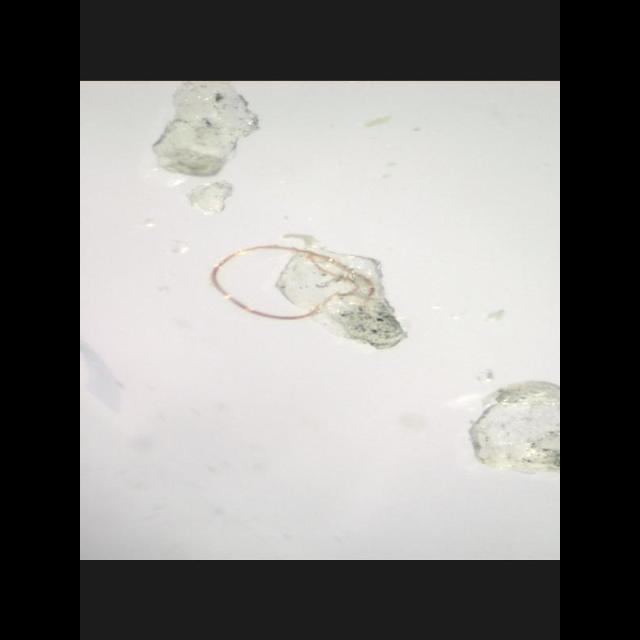Fibre: (210, 243, 410, 349)
